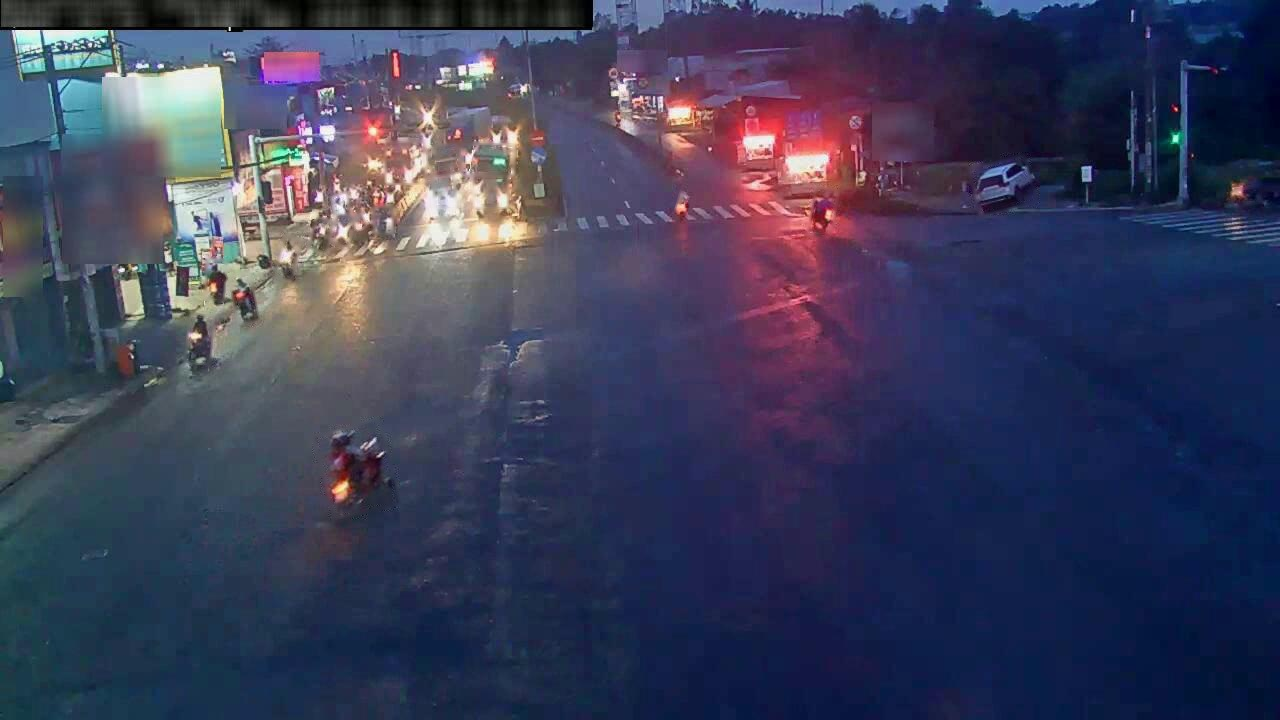Bus: (386, 142, 419, 183)
Car: (467, 143, 510, 184), (473, 178, 511, 217), (425, 179, 453, 216)
Motorcycle: (327, 431, 394, 510), (232, 279, 258, 321), (810, 196, 835, 232)
Motorcyclist: (1227, 178, 1279, 212), (187, 314, 212, 372), (207, 262, 226, 304), (278, 240, 296, 280), (374, 208, 396, 237), (312, 218, 331, 250), (332, 215, 351, 243), (673, 189, 689, 220), (351, 216, 367, 238), (333, 195, 345, 215)
Traffic light: (1167, 102, 1184, 146), (1169, 102, 1182, 131)
Truck: (974, 161, 1035, 211), (431, 145, 462, 184)
